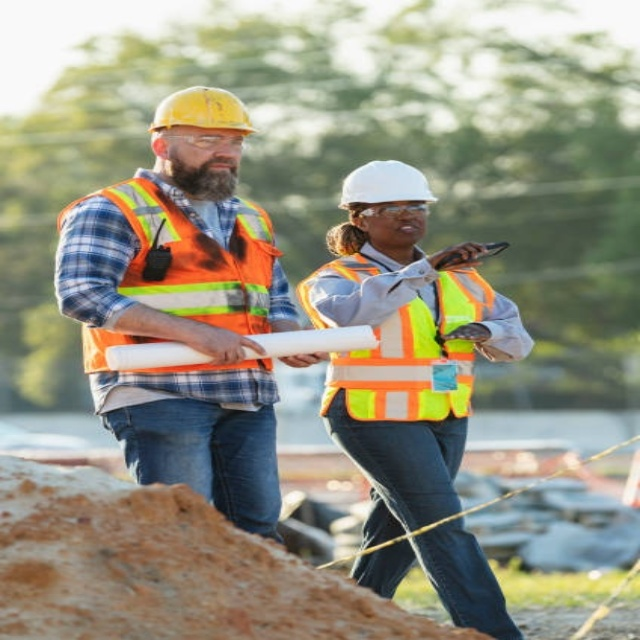Gafas: (160, 131, 251, 150), (353, 203, 435, 219)
Sin_guantes: (181, 321, 268, 365), (427, 241, 499, 272), (441, 323, 491, 343), (278, 350, 326, 368)
Sin_mascara: (195, 159, 240, 182), (386, 221, 420, 239)
